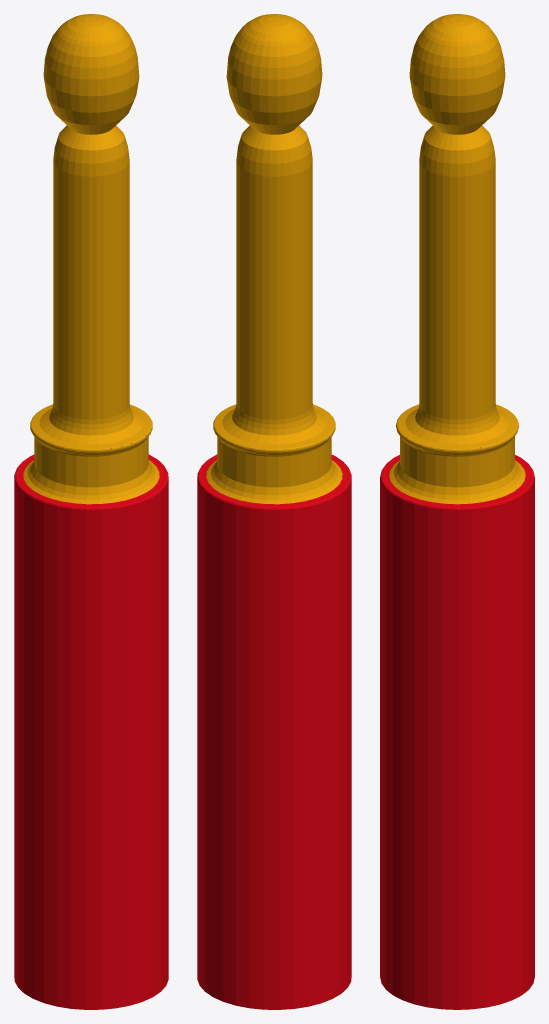
Rendered from SwitchBoard Plug.fbx.
The picture shows the model from 3 angles, left to right: view 1: azimuth 30°, elevation 25°; view 2: azimuth 150°, elevation 25°; view 3: azimuth 270°, elevation 25°; orthographic projection.
Parts seen in each view (by area): view 1: Cylinder; view 2: Cylinder; view 3: Cylinder.
Part boxes in pixels (box(x1,y1,x2,y2)): Cylinder: box(14, 14, 168, 1009); Cylinder: box(197, 14, 351, 1009); Cylinder: box(380, 14, 534, 1009).
Size of the model in its own units: 86.64 by 592 by 86.64.
